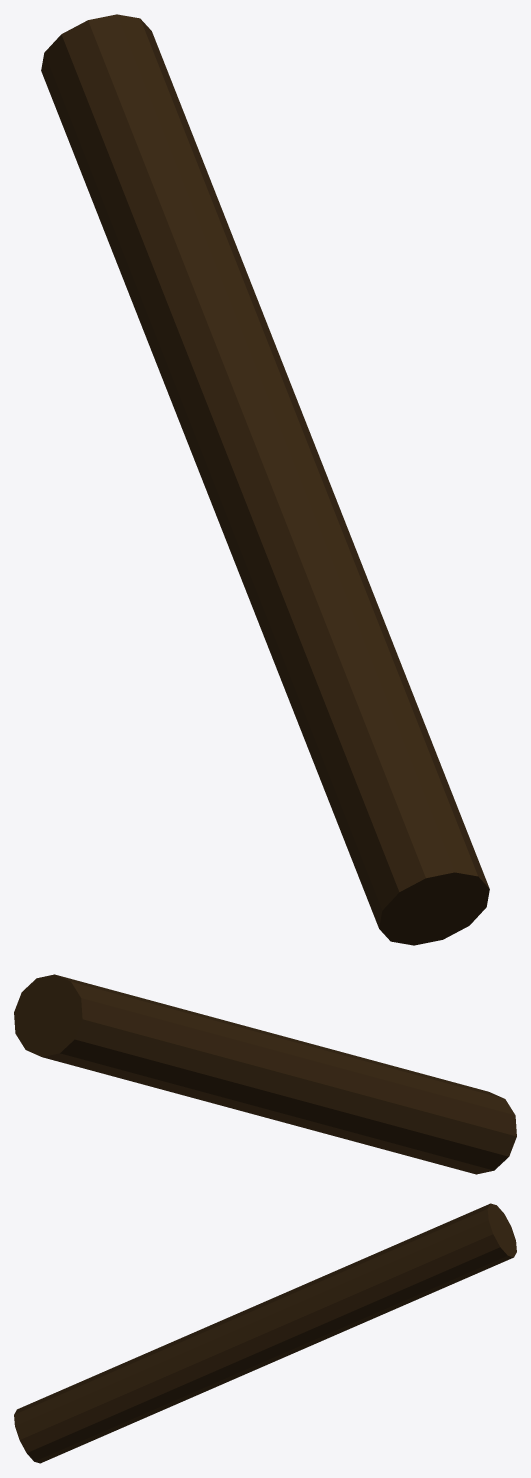
The model's file is expTreeBranch.fbx.
3 renders of one model, top to bottom at view 1: azimuth 30°, elevation 25°; view 2: azimuth 150°, elevation 25°; view 3: azimuth 270°, elevation 25°, orthographic. The views are drawn at different scales.
Visible parts, largest first — view 1: pasted__pasted__pasted__pCylinder2; view 2: pasted__pasted__pasted__pCylinder2; view 3: pasted__pasted__pasted__pCylinder2.
Part boxes in pixels (x1,y1,x2,y2): pasted__pasted__pasted__pCylinder2: (41,14,489,945); pasted__pasted__pasted__pCylinder2: (14,974,516,1174); pasted__pasted__pasted__pCylinder2: (14,1203,516,1463).
Bounding box in the file's own units: 0.8347 × 1.93 × 3.08.
